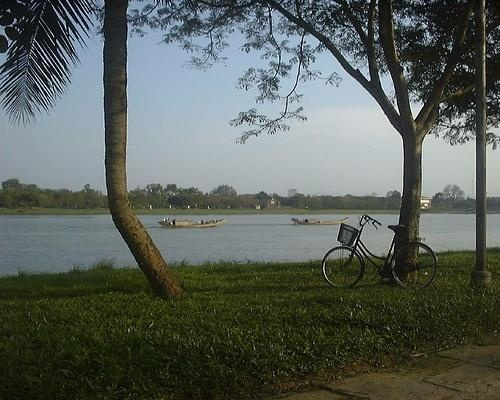bicycle: (320, 212, 440, 294)
boat: (158, 214, 229, 231), (291, 215, 352, 228)
